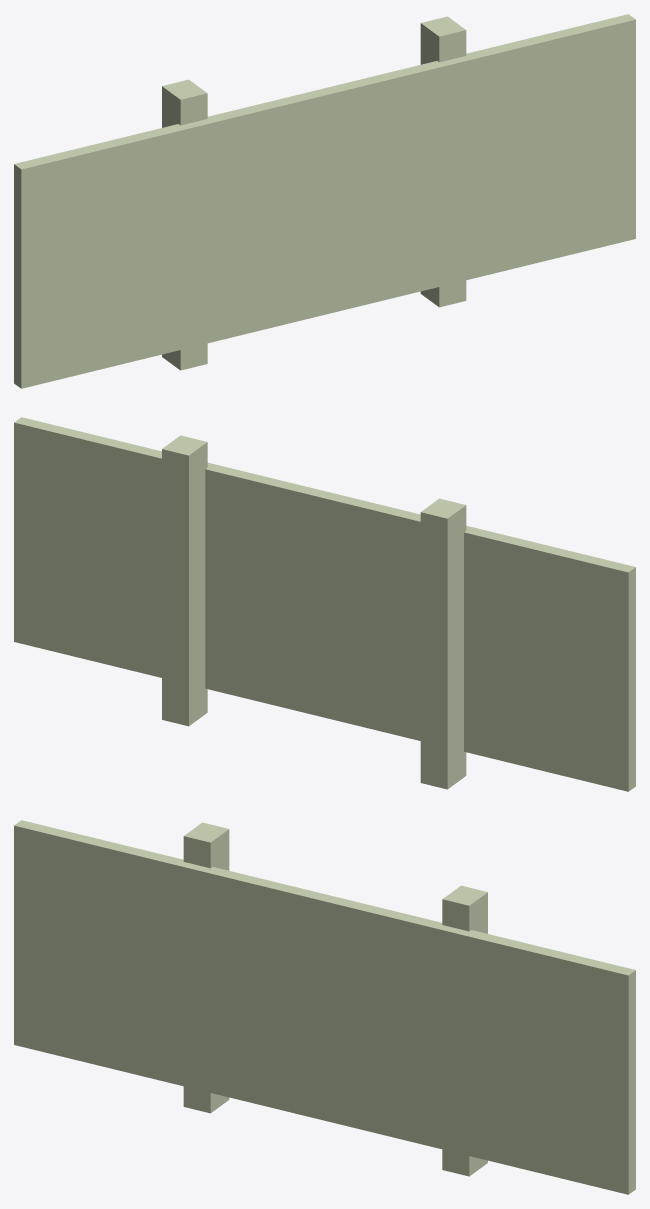
The model's file is furniture_sign_back_rectangle_wide.glb.
The picture shows the model from 3 angles, top to bottom: view 1: azimuth 30°, elevation 25°; view 2: azimuth 150°, elevation 25°; view 3: azimuth 330°, elevation 25°; orthographic projection.
Parts seen in each view (by area): view 1: back_plate, stiffener_1, stiffener_0; view 2: back_plate, stiffener_0, stiffener_1; view 3: back_plate, stiffener_0, stiffener_1.
Boxes of the visible parts, x1,y1,x2,y2 form: back_plate: [14, 14, 635, 388]; stiffener_1: [420, 16, 466, 307]; stiffener_0: [162, 79, 207, 370]; back_plate: [14, 417, 635, 791]; stiffener_0: [420, 498, 466, 789]; stiffener_1: [162, 435, 207, 726]; back_plate: [14, 820, 635, 1194]; stiffener_0: [183, 822, 229, 1113]; stiffener_1: [442, 885, 487, 1176].
Bounding box in the file's own units: 1.14 × 0.48 × 0.077.
